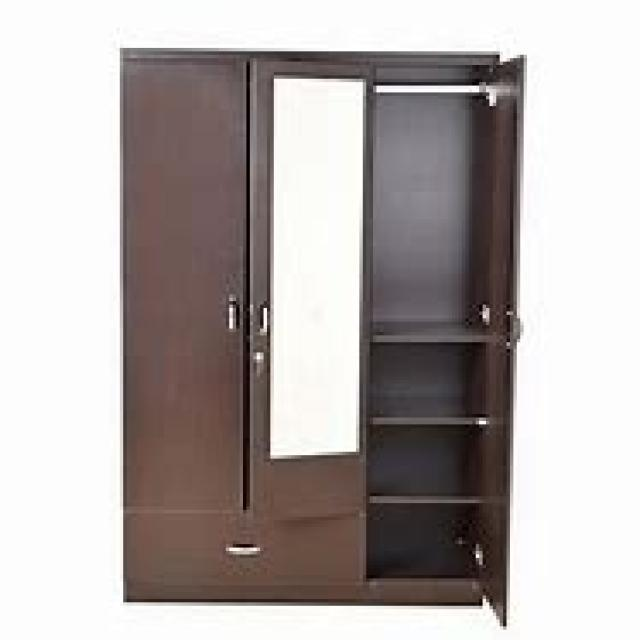dolap: (116, 44, 524, 623)
